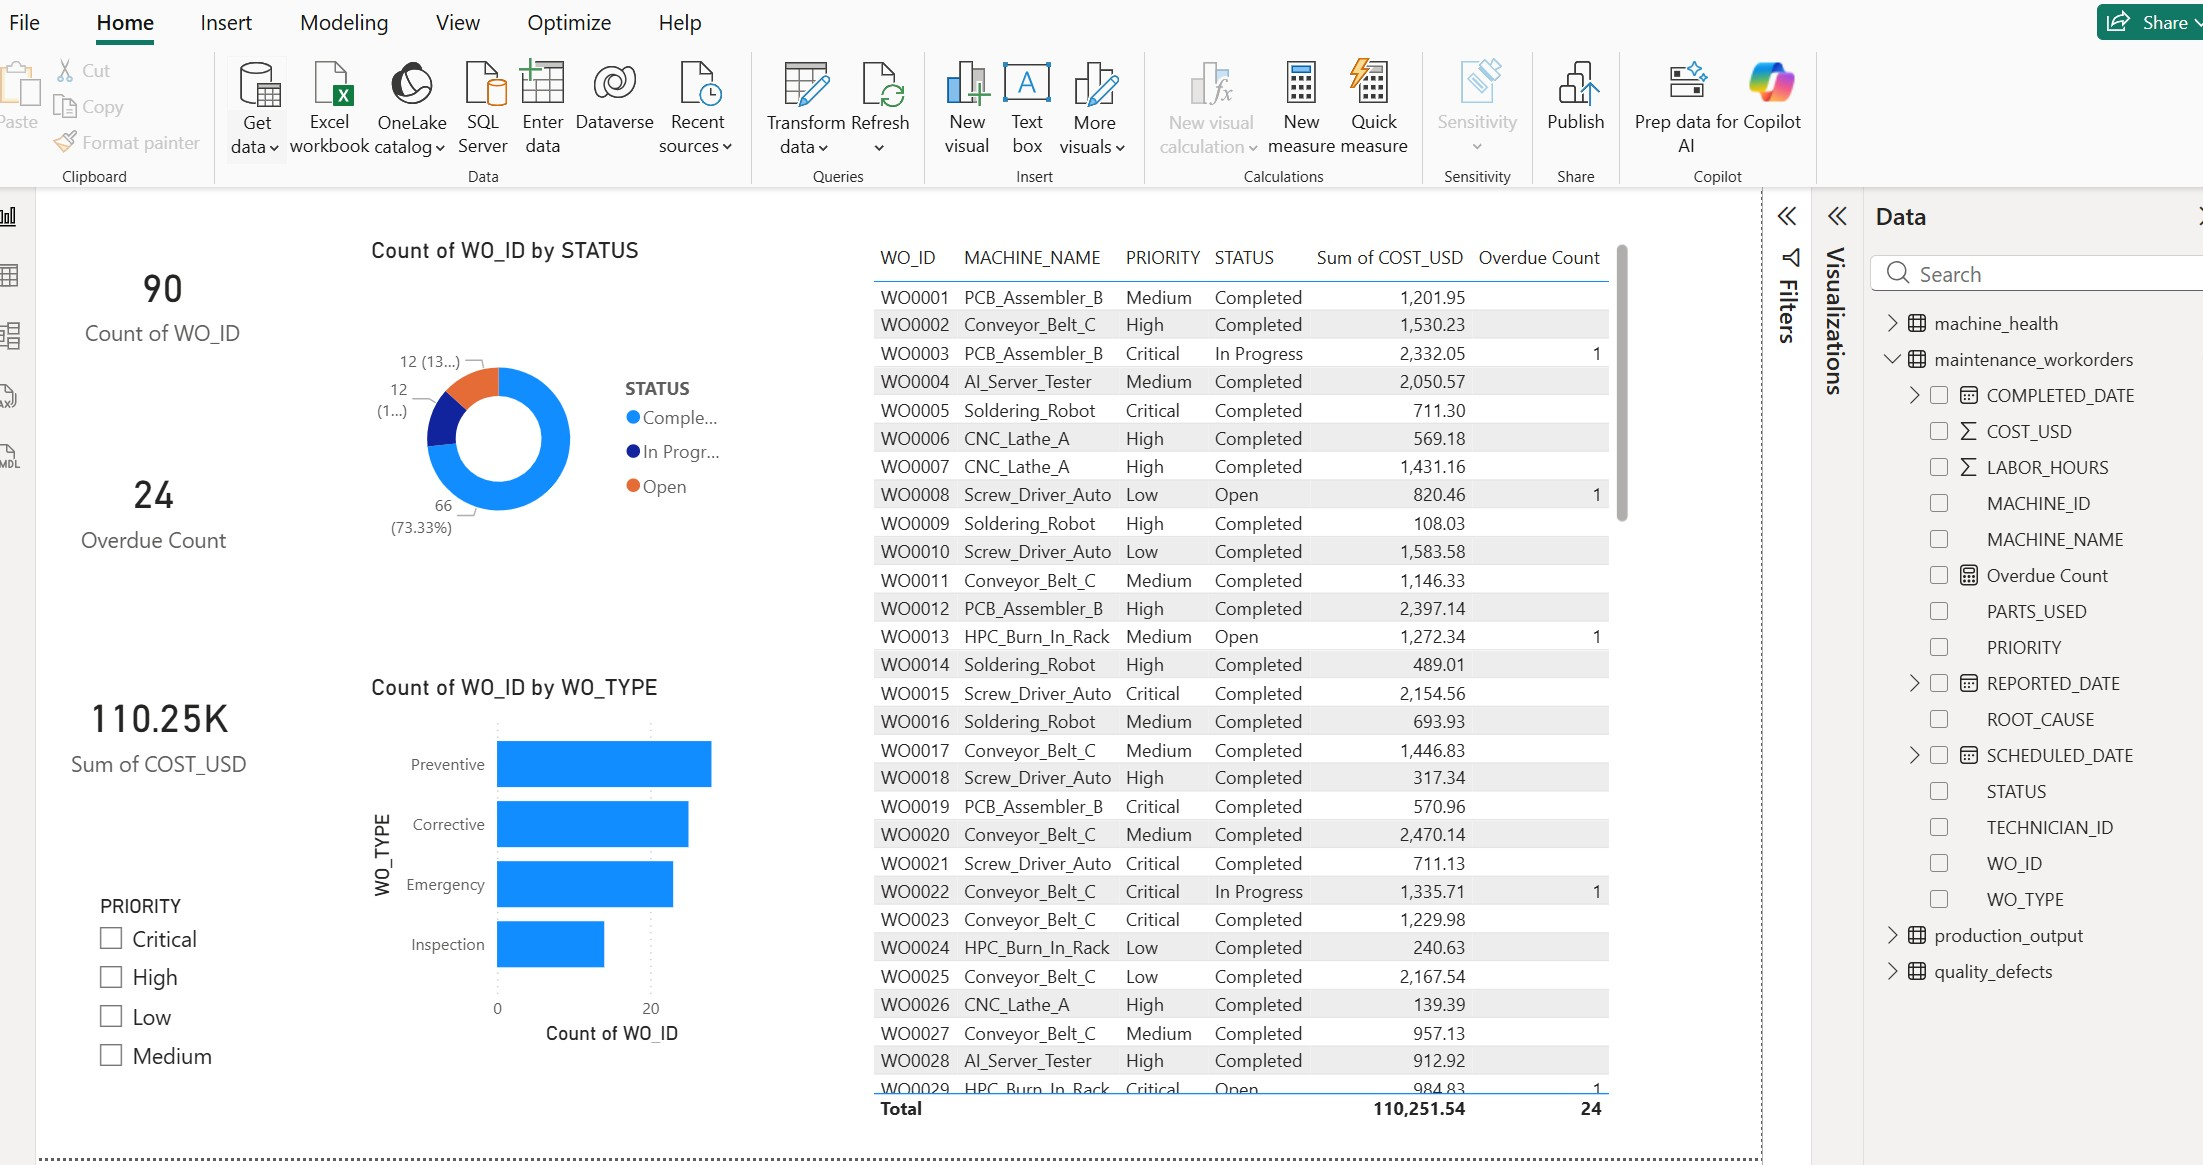

The dashboard page shown, as its layout file describes it:
{"tool":"powerbi","page":{"name":"Maintenance Work Orders","canvas":[1280,720],"ordinal":2},"visuals":[{"type":"card","fields":{"Values":["Count(maintenance_workorders.WO_ID)"]},"box":[10.2,0,206.5,214.1],"z":0},{"type":"card","fields":{"Values":["maintenance_workorders.Overdue Count"]},"box":[0,201.4,189.9,235.8],"z":1},{"type":"card","fields":{"Values":["Sum(maintenance_workorders.COST_USD)"]},"box":[0,449.9,177.2,150.4],"z":2},{"type":"donutChart","fields":{"Category":["maintenance_workorders.STATUS"],"Y":["CountNonNull(maintenance_workorders.WO_ID)"]},"box":[243.4,16.6,280.4,280.4],"z":3},{"type":"clusteredBarChart","fields":{"Category":["maintenance_workorders.WO_TYPE"],"Y":["CountNonNull(maintenance_workorders.WO_ID)"]},"box":[243.4,279.1,280.4,279.1],"z":4},{"type":"tableEx","fields":{"Values":["maintenance_workorders.WO_ID","maintenance_workorders.MACHINE_NAME","maintenance_workorders.PRIORITY","maintenance_workorders.STATUS","Sum(maintenance_workorders.COST_USD)","maintenance_workorders.Overdue Count"]},"box":[615.6,37,571,661.5],"z":5},{"type":"slicer","fields":{"Values":["maintenance_workorders.PRIORITY"]},"box":[322.4,567.1,121.1,152.9],"z":6}]}

Visuals, with their boxes on the page's 1280x720 design canvas (x1, y1, x2, y2). These are canvas units, not pixel positions in the 2203x1165 screenshot, which may show the page scaled, cropped or inside an application window:
card - Count(maintenance_workorders.WO_ID): left=10, top=0, right=217, bottom=214
card - maintenance_workorders.Overdue Count: left=0, top=201, right=190, bottom=437
card - Sum(maintenance_workorders.COST_USD): left=0, top=450, right=177, bottom=600
donutChart - maintenance_workorders.STATUS x CountNonNull(maintenance_workorders.WO_ID): left=243, top=17, right=524, bottom=297
clusteredBarChart - maintenance_workorders.WO_TYPE x CountNonNull(maintenance_workorders.WO_ID): left=243, top=279, right=524, bottom=558
tableEx - maintenance_workorders.WO_ID x maintenance_workorders.MACHINE_NAME: left=616, top=37, right=1187, bottom=698
slicer - maintenance_workorders.PRIORITY: left=322, top=567, right=444, bottom=720
